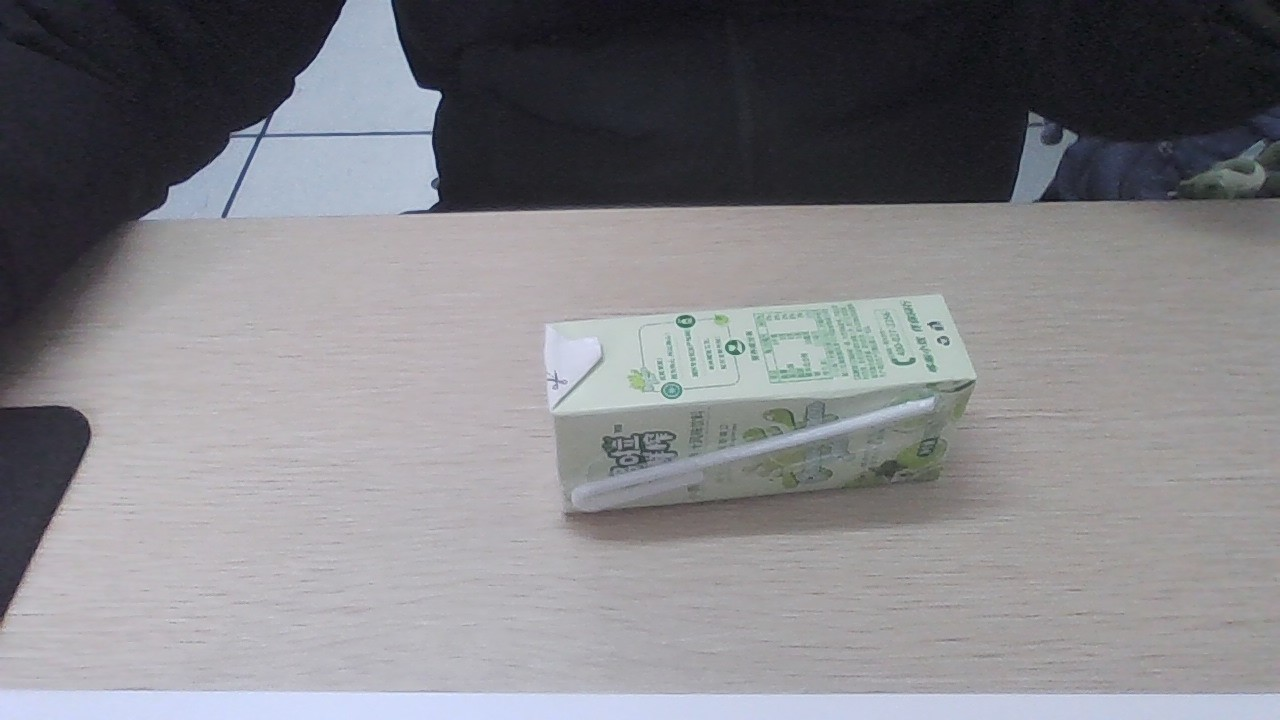CY-drink: (544, 293, 973, 522)
